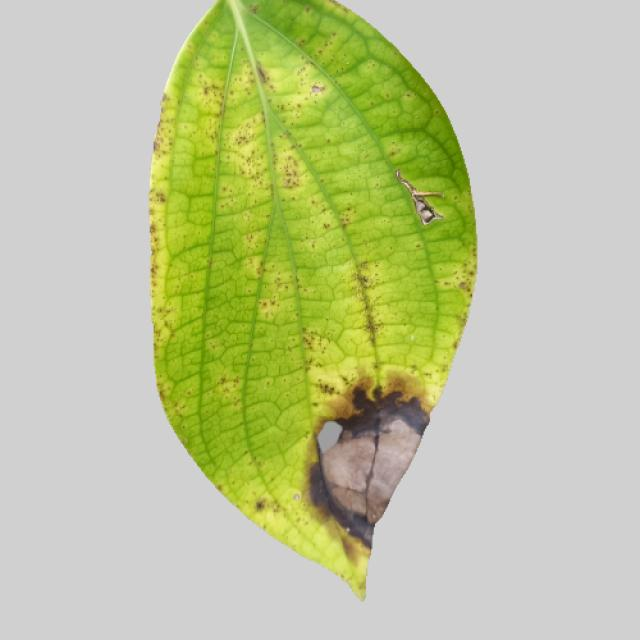leaf-blight: (114, 12, 536, 602)
